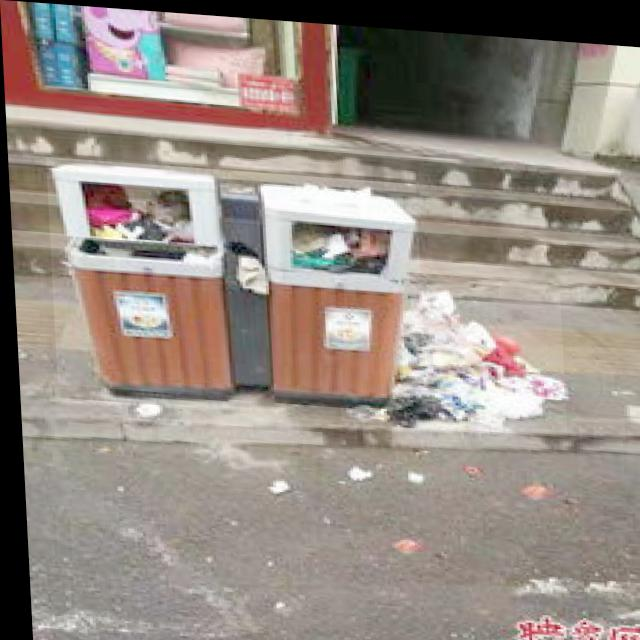garbage: (332, 271, 564, 429)
overflow: (44, 156, 424, 406)
